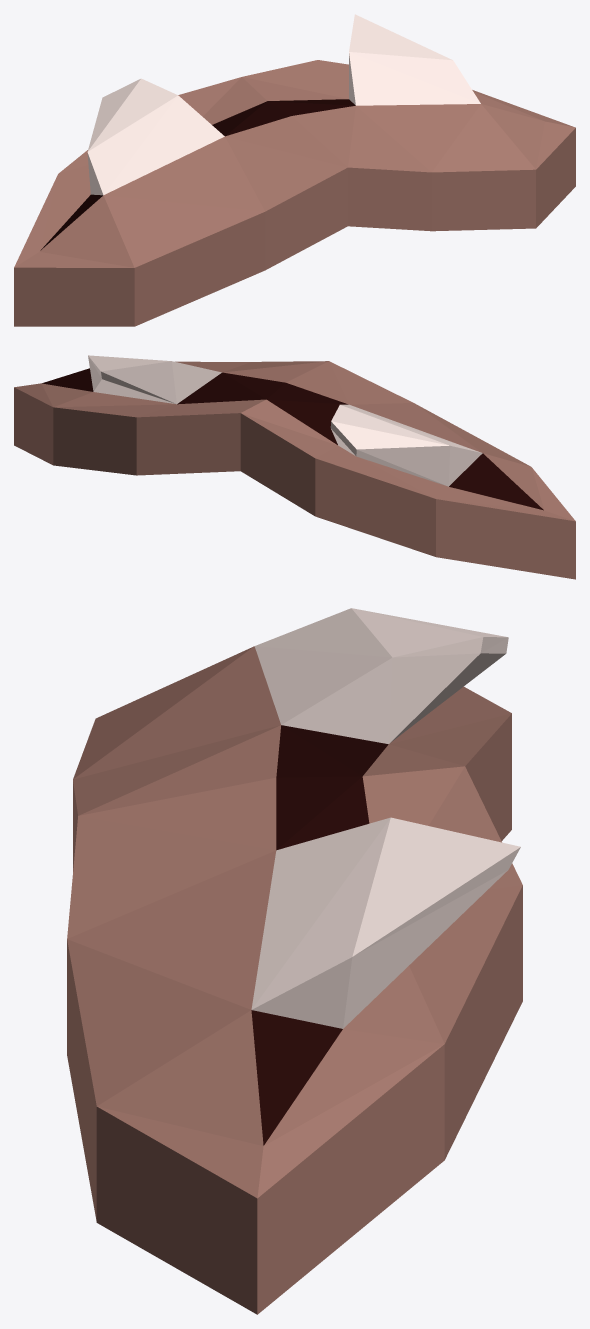
File: Mouth 10.FBX
The picture shows the model from 3 angles, top to bottom: view 1: azimuth 30°, elevation 25°; view 2: azimuth 150°, elevation 25°; view 3: azimuth 270°, elevation 25°; orthographic projection. The views are drawn at different scales.
Visible parts, largest first — view 1: Mouth 10; view 2: Mouth 10; view 3: Mouth 10.
Part boxes in pixels (left/top/right/bottom): Mouth 10: left=14, top=14, right=575, bottom=326; Mouth 10: left=14, top=355, right=575, bottom=579; Mouth 10: left=67, top=608, right=522, bottom=1314.
Bounding box in the file's own units: 8.27 × 2.92 × 2.25.
Materials: 1 (1 with a texture image).
